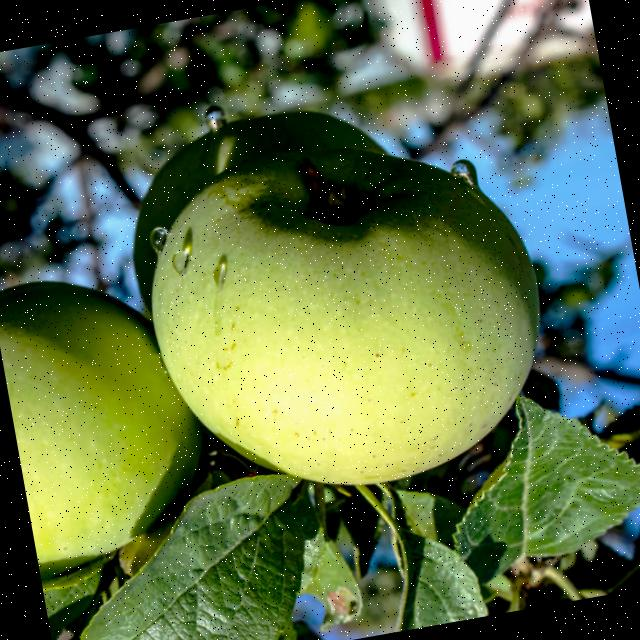Unripe: (128, 119, 565, 520)
